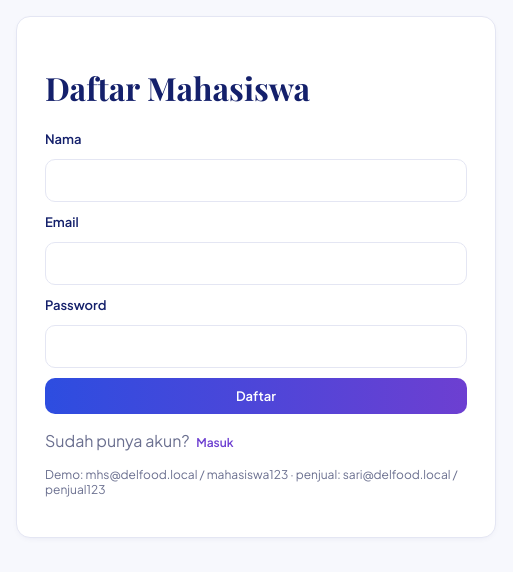
Test: Login (mode daftar) › menampilkan error validasi email dan tidak memanggil API
The image size is (513, 572).
In the field labelled "Nama": (256, 180) x1=45 y1=159 x2=467 y2=202, type "Edwin"
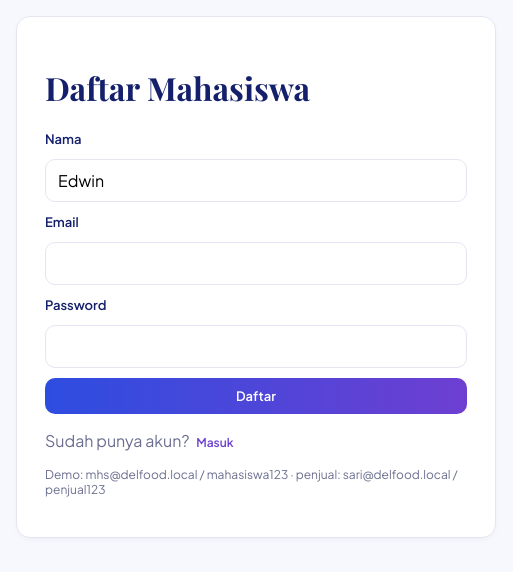
In the field labelled "Email": (256, 263) x1=45 y1=242 x2=467 y2=285, type "bukan-email"
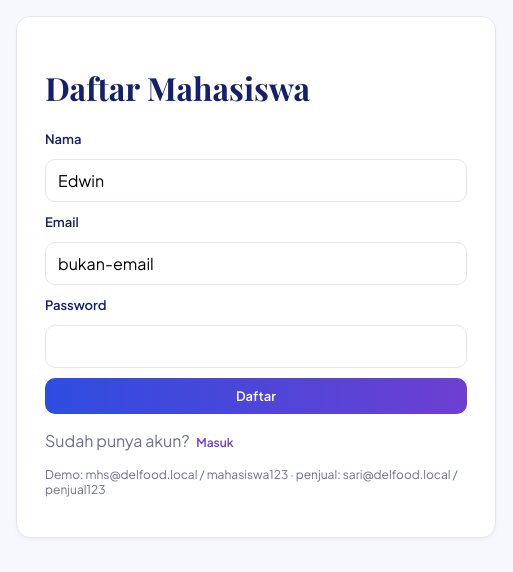
In the password field labelled "Password": (256, 346) x1=45 y1=325 x2=467 y2=368, type "rahasia123"
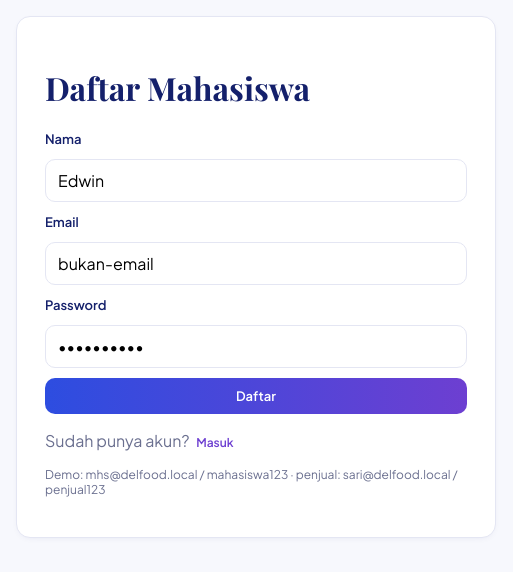
Submit the form with id "form-login"
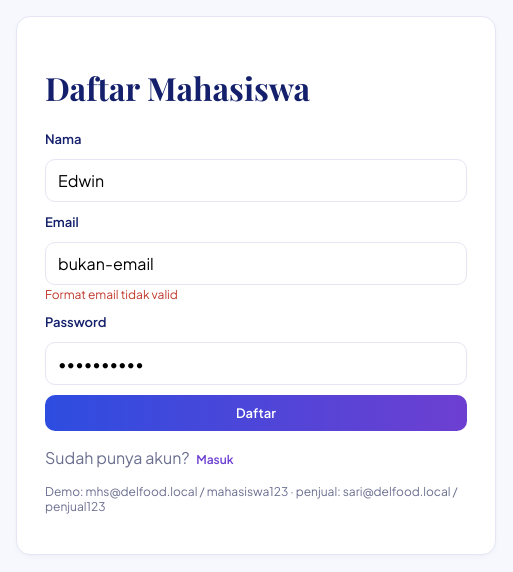
Expected: the text "Format email tidak valid" is shown, x1=45 y1=287 x2=178 y2=302
